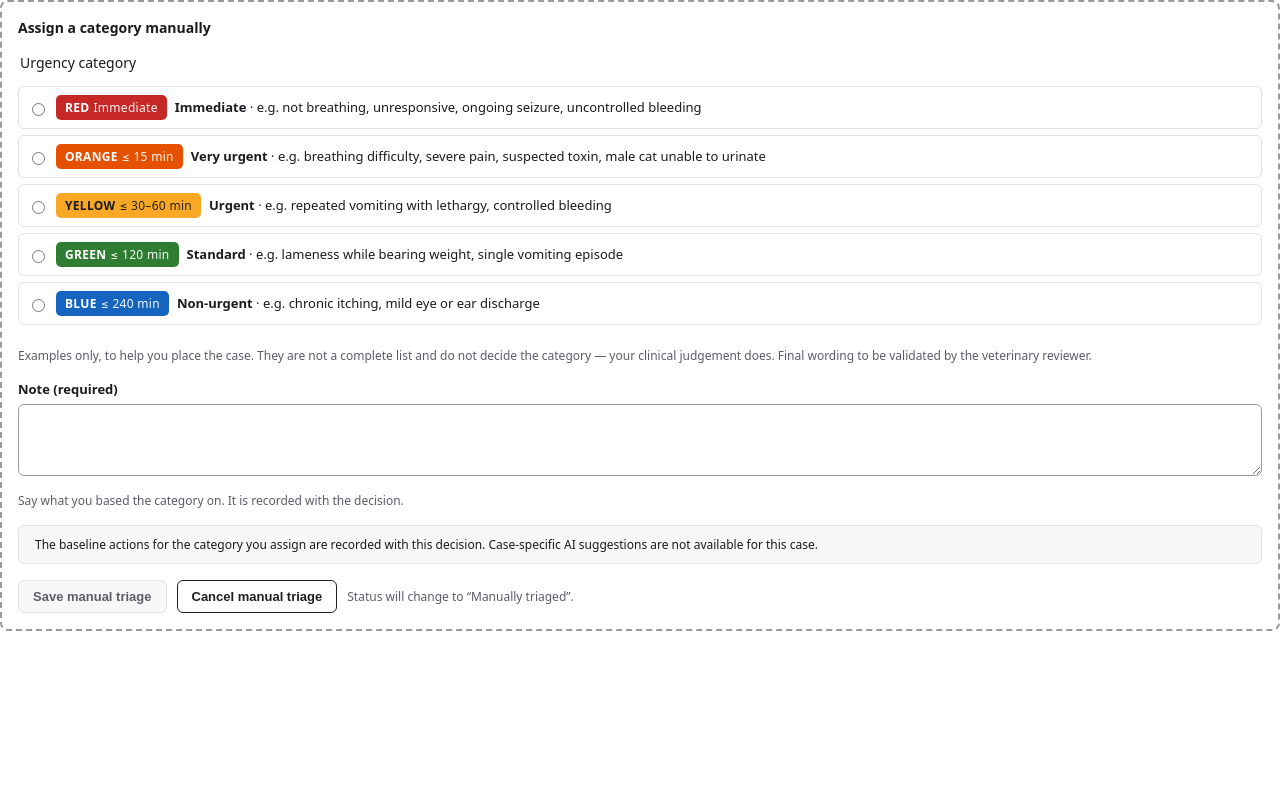
Test: ManualTriagePanel › keeps Save disabled until both a category and a note are given
The width and height of the screenshot is (1280, 800).
Expected: the button "Save manual triage" is disabled, [18,580,166,613]
Click the radio button labelled "ORANGE" at x=38, y=158, box [32,152,45,164]
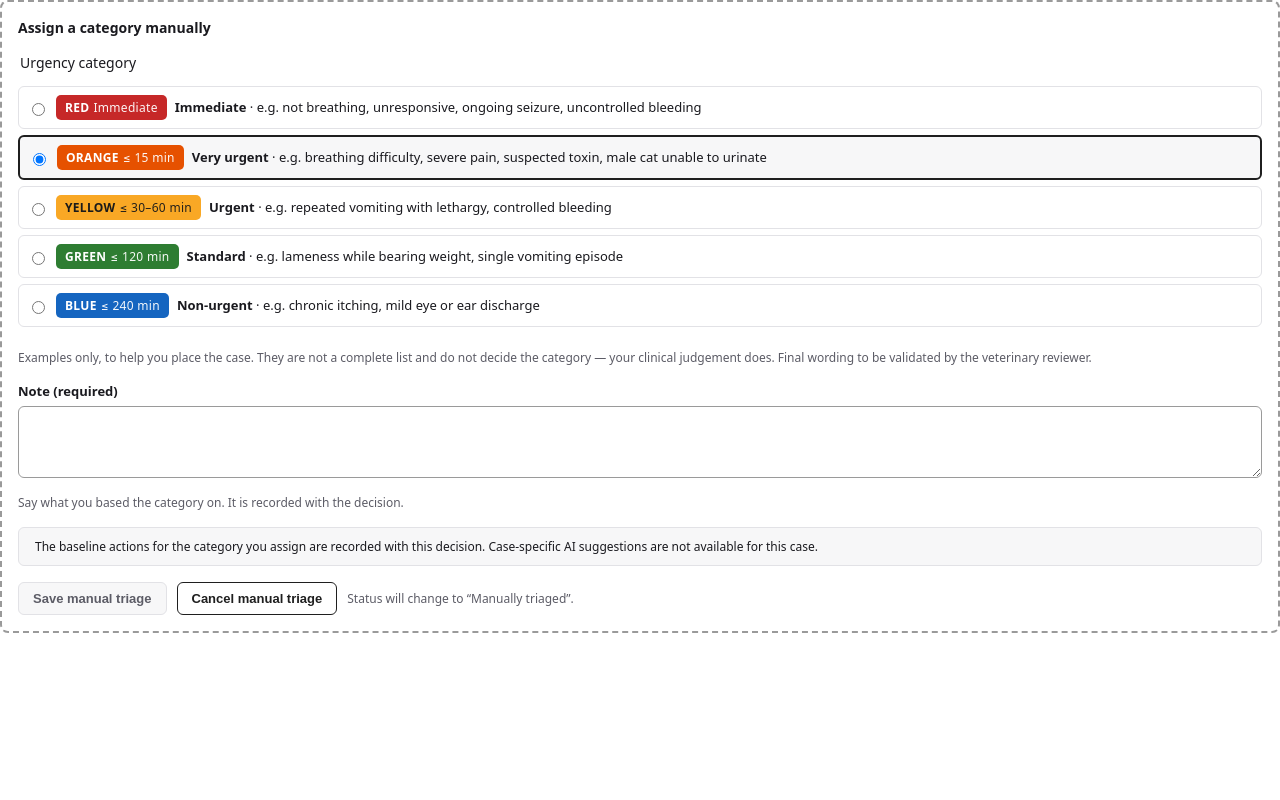
Expected: the button "Save manual triage" is disabled, [18,582,166,615]
Type "Fast breathing reported; assess on arrival." into the text box at x=640, y=442, box [18,406,1262,478]
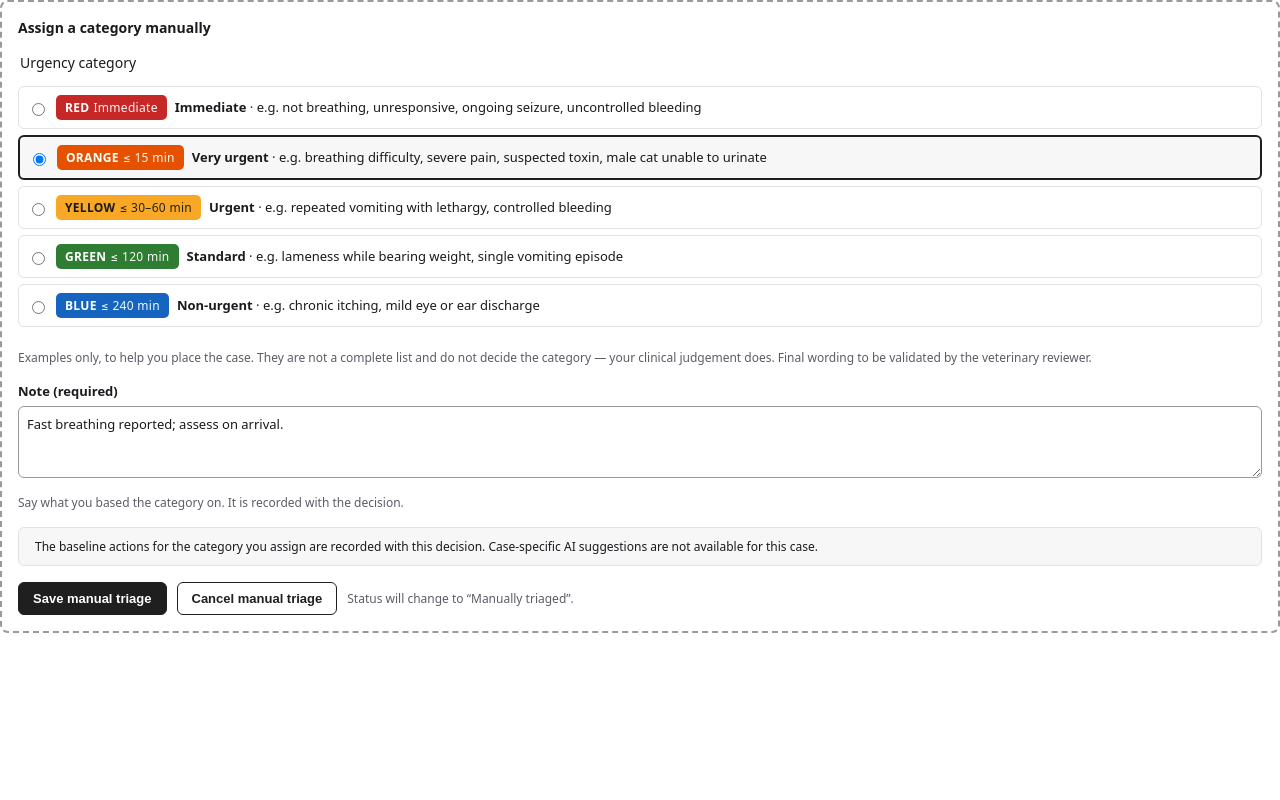
Expected: the button "Save manual triage" is enabled, [18,582,166,615]
